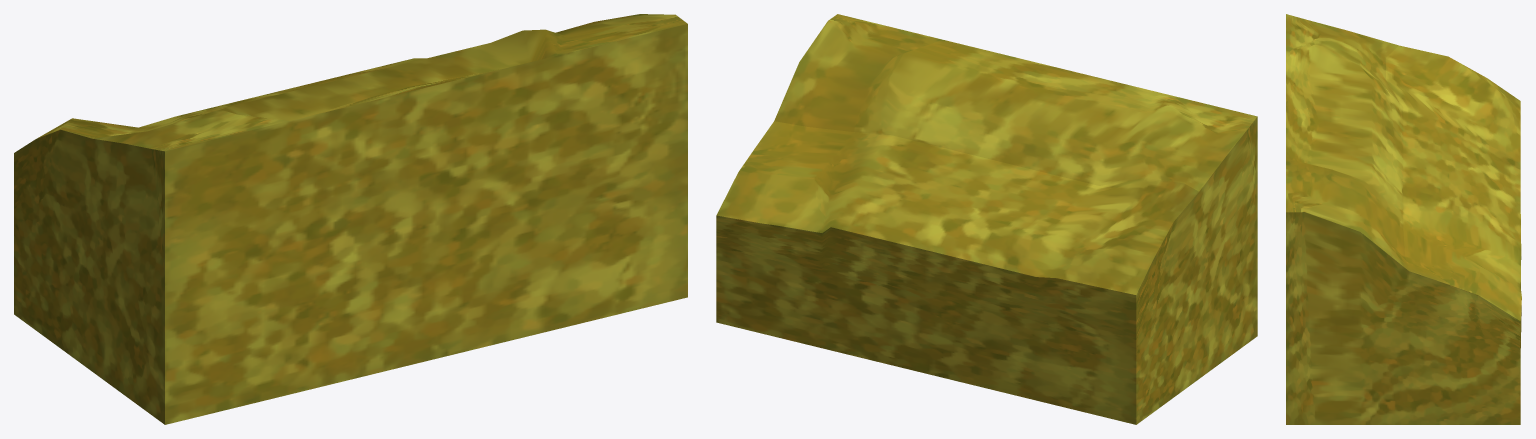
Rendered from grass_slope_long_up.fbx.
The picture shows the model from 3 angles, left to right: view 1: azimuth 30°, elevation 25°; view 2: azimuth 150°, elevation 25°; view 3: azimuth 270°, elevation 25°; orthographic projection. The views are drawn at different scales.
Parts seen in each view (by area): view 1: desert_grass23; view 2: desert_grass23; view 3: desert_grass23.
Boxes of the visible parts, x1,y1,x2,y2 form: desert_grass23: (14, 14, 687, 424); desert_grass23: (716, 14, 1257, 424); desert_grass23: (1286, 14, 1521, 424).
Size of the model in its own units: 200 by 100 by 100.
